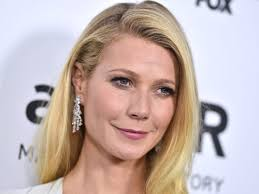unmasked: (62, 1, 196, 165)
